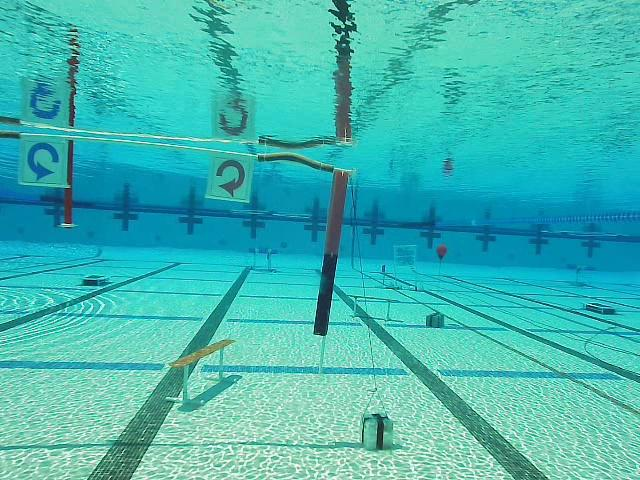buoy: (435, 243, 448, 261)
gate_blue: (19, 138, 68, 185)
gate_leg_r: (312, 166, 353, 336)
gate_red: (210, 156, 252, 201)
table: (248, 247, 279, 273)
torpedo: (392, 243, 418, 269)
